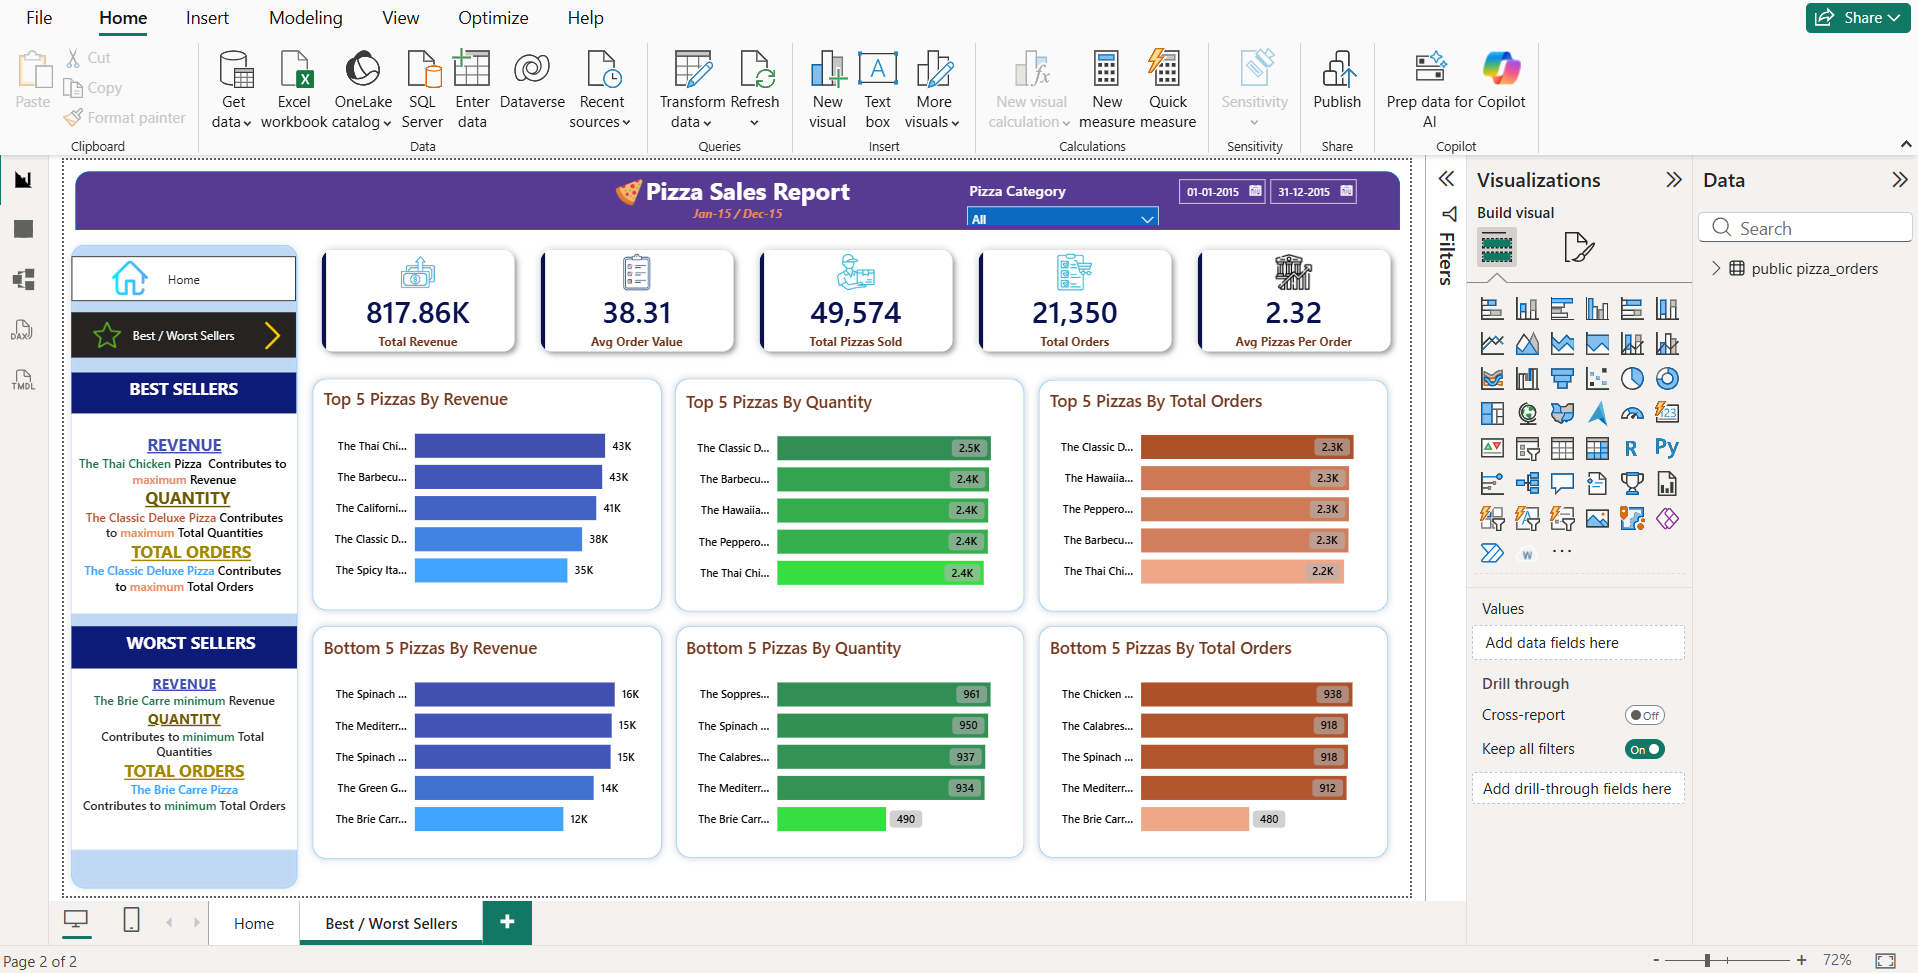

What the dashboard file says about the page in this screenshot:
{"tool":"powerbi","page":{"name":"Best / Worst Sellers","canvas":[1500,820],"ordinal":1},"visuals":[{"type":"cardVisual","fields":{"Data":["public pizza_orders.Total Revenue","public pizza_orders.Avg Order Value","public pizza_orders.Total Pizzas Sold","public pizza_orders.Total Orders","public pizza_orders.Avg Pizzas Per Order"]},"box":[264.6,78,1235.3,157.4],"z":0},{"type":"shape","box":[12.5,12.5,1476.2,65.5],"z":1000},{"type":"shape","box":[268.8,235.4,405.3,274.4],"z":2000},{"type":"shape","box":[0,86.1,268.1,733.3],"z":3000},{"type":"textbox","box":[8.3,519.4,251.4,47.2],"z":5000},{"type":"textbox","box":[639.2,11.1,245.1,48.7],"z":8000},{"type":"textbox","box":[693.5,46,114.2,27.9],"z":9000},{"type":"image","box":[610,20.9,39,30.6],"z":10000},{"type":"textbox","box":[8.3,281.9,251.4,223.6],"z":17000},{"type":"textbox","box":[8.3,566.7,251.4,201.4],"z":18000},{"type":"textbox","box":[8.3,236.1,250,45.8],"z":19000},{"type":"slicer","fields":{"Values":["public pizza_orders.pizza_category"]},"box":[995.8,18.1,234,54.3],"z":20000},{"type":"slicer","fields":{"Values":["public pizza_orders.order_date"]},"box":[1229.7,11.1,238.1,66.8],"z":21000},{"type":"shape","box":[268.8,511.1,405.3,275.7],"z":21001},{"type":"shape","box":[672.7,235.4,405.3,275.7],"z":21002},{"type":"shape","box":[674.1,511.1,403.9,274.4],"z":21003},{"type":"shape","box":[1077.9,511.1,405.3,274.4],"z":21004},{"type":"shape","box":[1077.9,236.8,405.3,274.4],"z":21005},{"type":"barChart","title":"Top 5 Pizzas By Revenue","fields":{"Category":["public pizza_orders.pizza_name"],"Y":["public pizza_orders.Total Revenue"]},"box":[284.5,253.6,374.5,237.3],"z":21006},{"type":"barChart","title":"Bottom 5 Pizzas By Revenue","fields":{"Category":["public pizza_orders.pizza_name"],"Y":["public pizza_orders.Total Revenue"]},"box":[284.3,530,374.3,237.1],"z":21007},{"type":"barChart","title":"Top 5 Pizzas By Quantity","fields":{"Category":["public pizza_orders.pizza_name"],"Y":["public pizza_orders.Total Pizzas Sold"]},"box":[688.6,255.7,374.3,237.1],"z":21008},{"type":"barChart","title":"Bottom 5 Pizzas By Quantity","fields":{"Category":["public pizza_orders.pizza_name"],"Y":["public pizza_orders.Total Pizzas Sold"]},"box":[688.6,530,374.3,237.1],"z":21009},{"type":"barChart","title":"Top 5 Pizzas By Total Orders","fields":{"Category":["public pizza_orders.pizza_name"],"Y":["public pizza_orders.Total Orders"]},"box":[1092.9,254.3,374.3,237.1],"z":21010},{"type":"barChart","title":"Bottom 5 Pizzas By Total Orders","fields":{"Category":["public pizza_orders.pizza_name"],"Y":["public pizza_orders.Total Orders"]},"box":[1092.9,530,374.3,237.1],"z":21011},{"type":"pageNavigator","box":[8.3,169.4,250,50],"z":21012},{"type":"pageNavigator","box":[8.3,106.9,250,50],"z":21013},{"type":"image","box":[29.2,179.2,37.5,30.6],"z":21014},{"type":"image","box":[205.6,179.2,52.8,31.9],"z":21015},{"type":"image","box":[48.6,111.1,50,40.3],"z":21016}]}

Visuals, with their boxes on the page's 1500x820 design canvas (x1, y1, x2, y2). These are canvas units, not pixel positions in the 1918x973 screenshot, which may show the page scaled, cropped or inside an application window:
cardVisual - public pizza_orders.Total Revenue x public pizza_orders.Avg Order Value: bbox(265, 78, 1500, 235)
shape: bbox(12, 12, 1489, 78)
shape: bbox(269, 235, 674, 510)
shape: bbox(0, 86, 268, 819)
textbox: bbox(8, 519, 260, 567)
textbox: bbox(639, 11, 884, 60)
textbox: bbox(694, 46, 808, 74)
image: bbox(610, 21, 649, 52)
textbox: bbox(8, 282, 260, 506)
textbox: bbox(8, 567, 260, 768)
textbox: bbox(8, 236, 258, 282)
slicer - public pizza_orders.pizza_category: bbox(996, 18, 1230, 72)
slicer - public pizza_orders.order_date: bbox(1230, 11, 1468, 78)
shape: bbox(269, 511, 674, 787)
shape: bbox(673, 235, 1078, 511)
shape: bbox(674, 511, 1078, 786)
shape: bbox(1078, 511, 1483, 786)
shape: bbox(1078, 237, 1483, 511)
"Top 5 Pizzas By Revenue" barChart: bbox(284, 254, 659, 491)
"Bottom 5 Pizzas By Revenue" barChart: bbox(284, 530, 659, 767)
"Top 5 Pizzas By Quantity" barChart: bbox(689, 256, 1063, 493)
"Bottom 5 Pizzas By Quantity" barChart: bbox(689, 530, 1063, 767)
"Top 5 Pizzas By Total Orders" barChart: bbox(1093, 254, 1467, 491)
"Bottom 5 Pizzas By Total Orders" barChart: bbox(1093, 530, 1467, 767)
pageNavigator: bbox(8, 169, 258, 219)
pageNavigator: bbox(8, 107, 258, 157)
image: bbox(29, 179, 67, 210)
image: bbox(206, 179, 258, 211)
image: bbox(49, 111, 99, 151)
